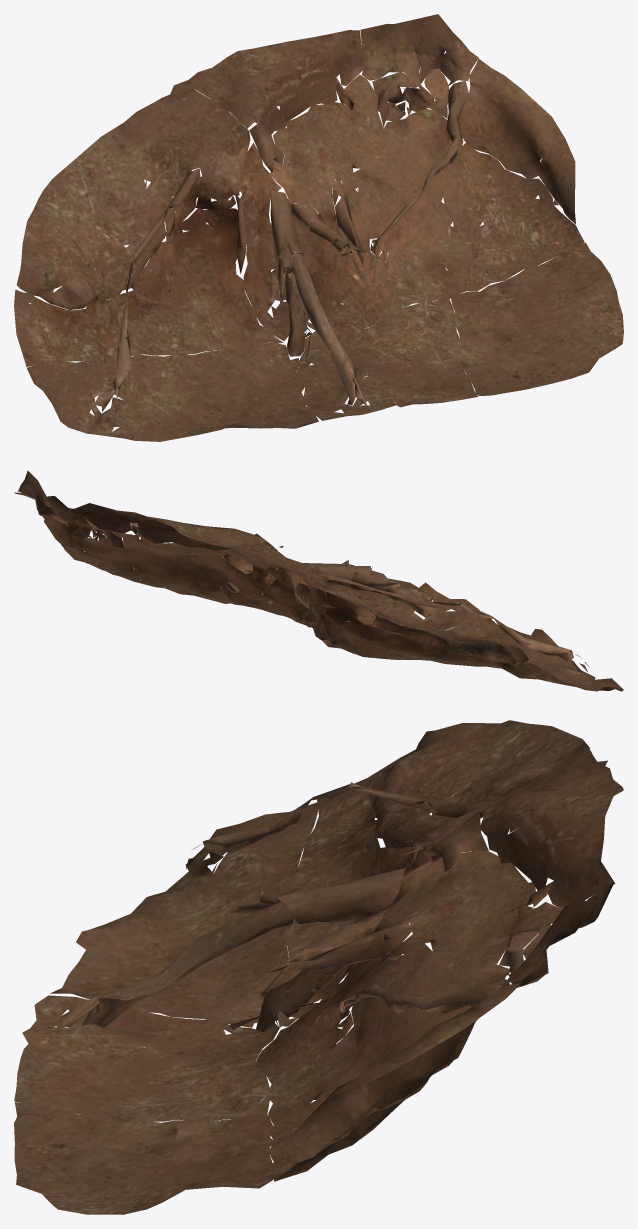
The model's file is root_cluster_01.glb.
The picture shows the model from 3 angles, top to bottom: view 1: azimuth 30°, elevation 25°; view 2: azimuth 150°, elevation 25°; view 3: azimuth 270°, elevation 25°; orthographic projection. The views are drawn at different scales.
Parts seen in each view (by area): view 1: root_cluster_01; view 2: root_cluster_01; view 3: root_cluster_01.
Boxes of the visible parts, x1,y1,x2,y2 form: root_cluster_01: (14,14,623,441); root_cluster_01: (14,470,623,691); root_cluster_01: (14,720,623,1214).
Size of the model in its own units: 4.12 by 1.5 by 2.68.
Materials: 1 (1 with a texture image).
